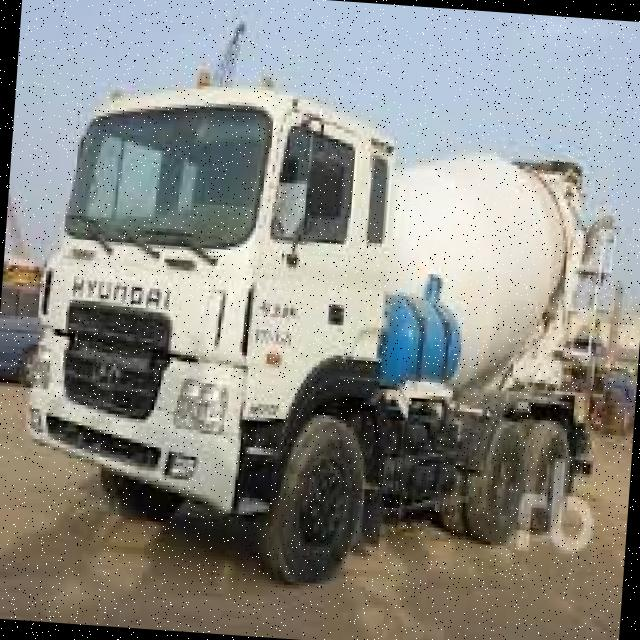Mixer Truck: (14, 57, 628, 607)
